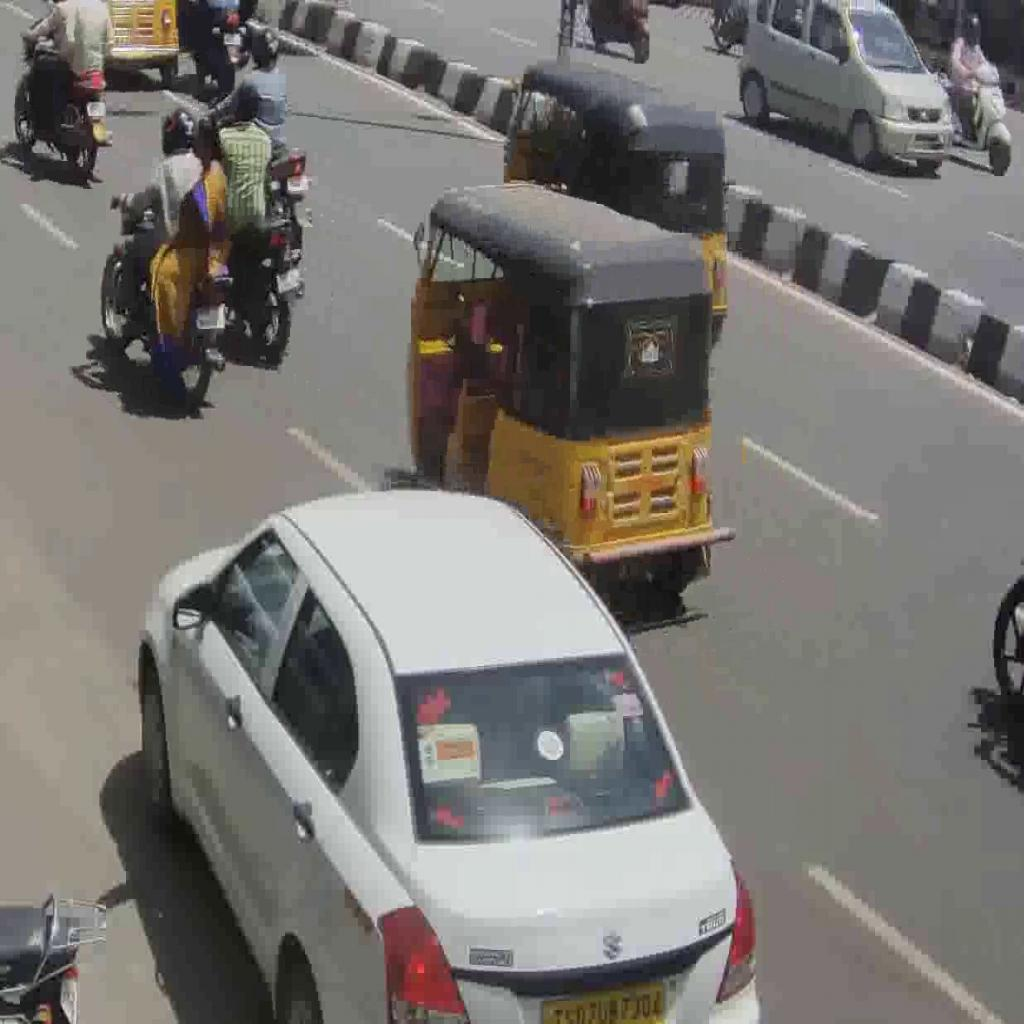bike: (100, 186, 229, 408), (208, 92, 314, 255), (11, 22, 114, 180), (190, 1, 250, 89)
helmet: (231, 216, 305, 359), (158, 105, 197, 161), (247, 23, 281, 76)
lisc: (195, 300, 227, 332), (276, 266, 300, 295), (287, 174, 308, 194), (86, 100, 106, 118), (224, 32, 240, 47)
no_helmet: (188, 115, 224, 167), (228, 78, 262, 128)
rider: (142, 114, 231, 358), (108, 106, 198, 346), (206, 24, 287, 152), (216, 78, 272, 227)
